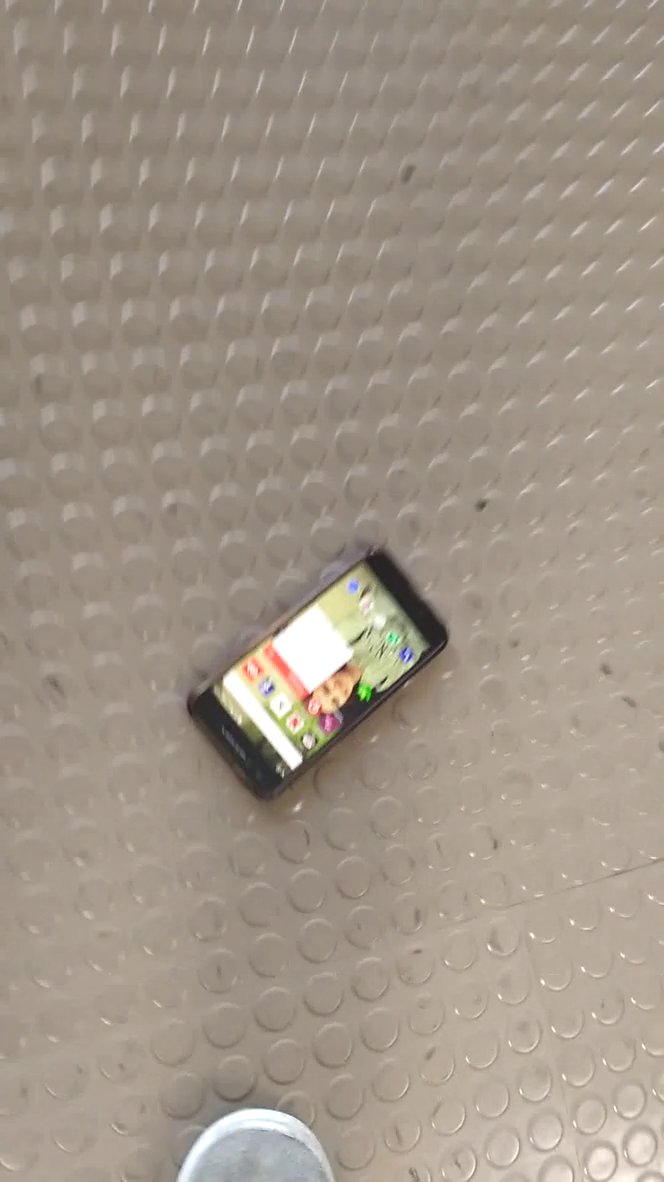phone: (174, 522, 471, 829)
